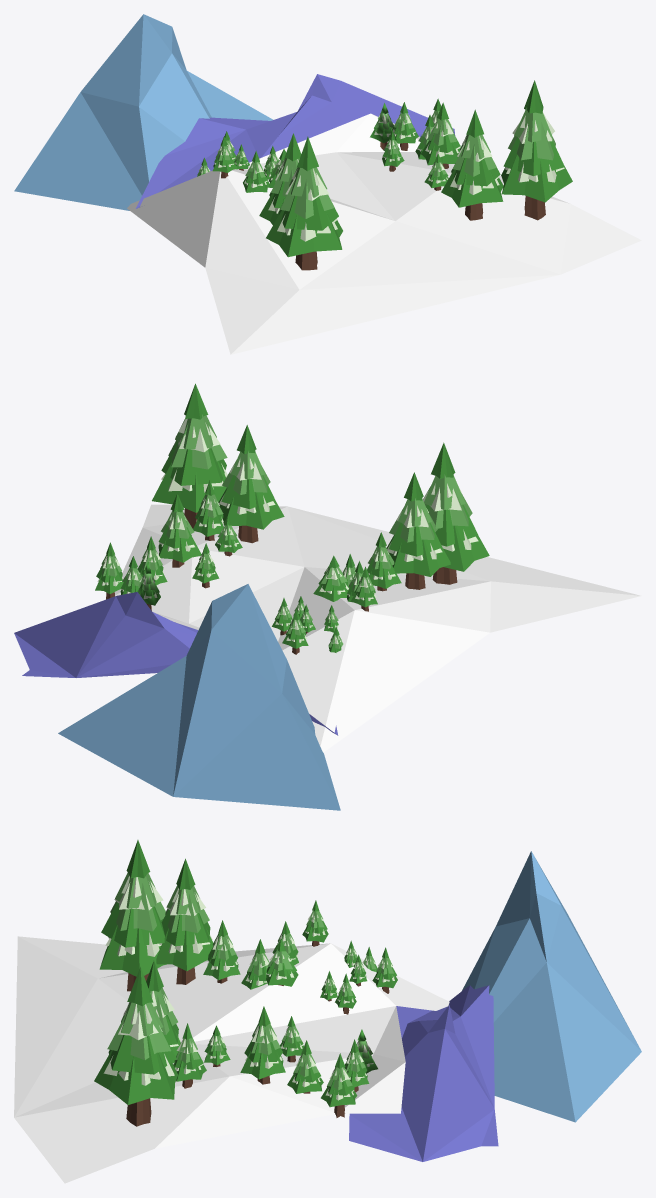
The model's file is SCENE mountain.fbx.
The picture shows the model from 3 angles, top to bottom: view 1: azimuth 30°, elevation 25°; view 2: azimuth 150°, elevation 25°; view 3: azimuth 270°, elevation 25°; orthographic projection. The views are drawn at different scales.
Visible parts, largest first — view 1: Plane.002; view 2: Plane.002; view 3: Plane.002.
Part boxes in pixels (left/top/right/bottom): Plane.002: left=14, top=14, right=641, bottom=354; Plane.002: left=14, top=383, right=640, bottom=810; Plane.002: left=14, top=840, right=641, bottom=1183.
Bounding box in the file's own units: 7640 × 2927 × 8433.
